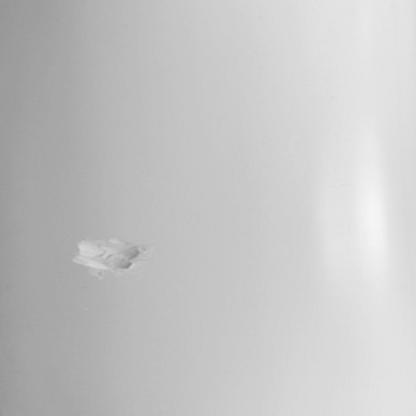sunshang: (69, 239, 146, 273)
